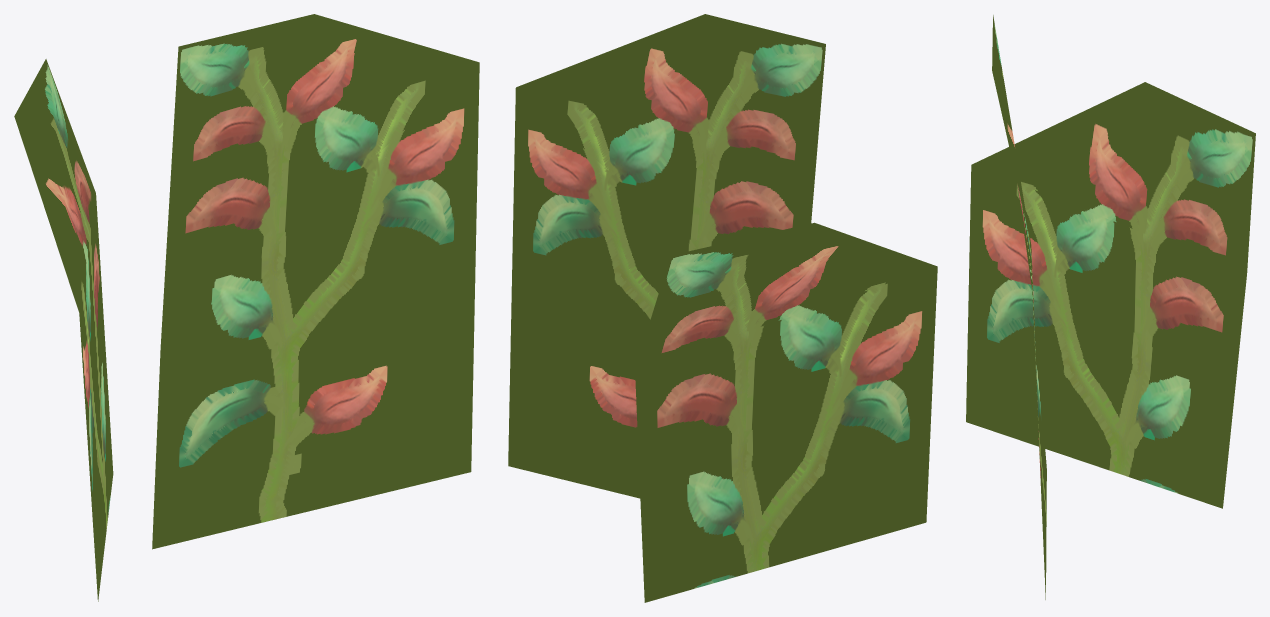
File: grass_03.fbx
The picture shows the model from 3 angles, left to right: view 1: azimuth 30°, elevation 25°; view 2: azimuth 150°, elevation 25°; view 3: azimuth 270°, elevation 25°; orthographic projection. The views are drawn at different scales.
Parts seen in each view (by area): view 1: grass_03; view 2: grass_03; view 3: grass_03.
Boxes of the visible parts, x1,y1,x2,y2 form: grass_03: [14, 14, 479, 601]; grass_03: [508, 14, 937, 602]; grass_03: [966, 15, 1255, 599].
Bounding box in the file's own units: 84.69 × 101 × 56.8.
